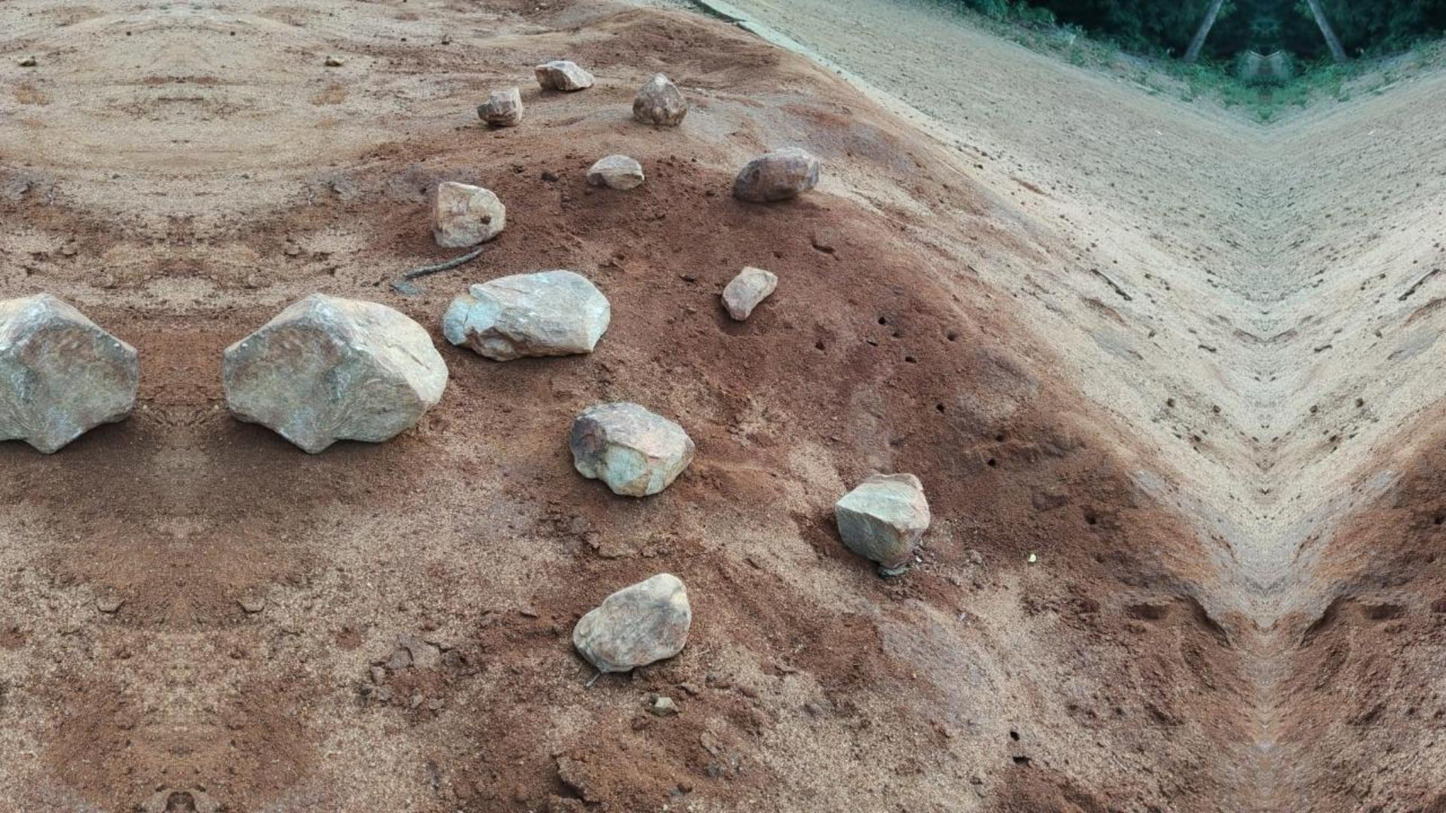rock: (221, 294, 447, 453), (0, 292, 138, 453), (443, 270, 610, 359), (569, 403, 695, 495), (573, 572, 690, 671), (834, 473, 930, 575), (432, 182, 505, 247), (733, 148, 819, 201), (722, 266, 777, 320), (633, 73, 686, 125), (586, 155, 644, 190), (534, 60, 594, 91), (477, 87, 522, 126)
